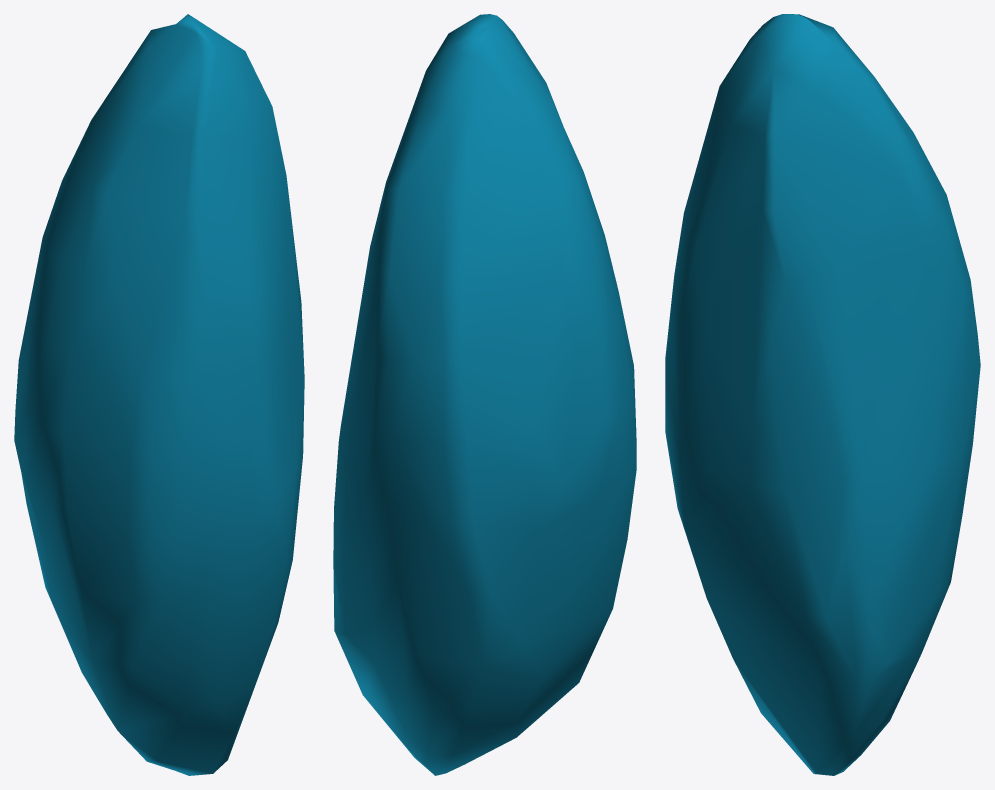
The model's file is Alchemy Crystal 4.fbx.
3 views of the same model, side by side, from view 1: azimuth 30°, elevation 25°; view 2: azimuth 150°, elevation 25°; view 3: azimuth 270°, elevation 25° (orthographic). The views are drawn at different scales.
Visible parts, largest first — view 1: Alchemy_Crystal_4; view 2: Alchemy_Crystal_4; view 3: Alchemy_Crystal_4.
Part boxes in pixels (<box>): Alchemy_Crystal_4: <box>14,14,304,775</box>; Alchemy_Crystal_4: <box>333,14,636,775</box>; Alchemy_Crystal_4: <box>665,14,980,775</box>.
Size of the model in its own units: 3.26 by 9.16 by 3.49.
Materials: 1 (1 with a texture image).
